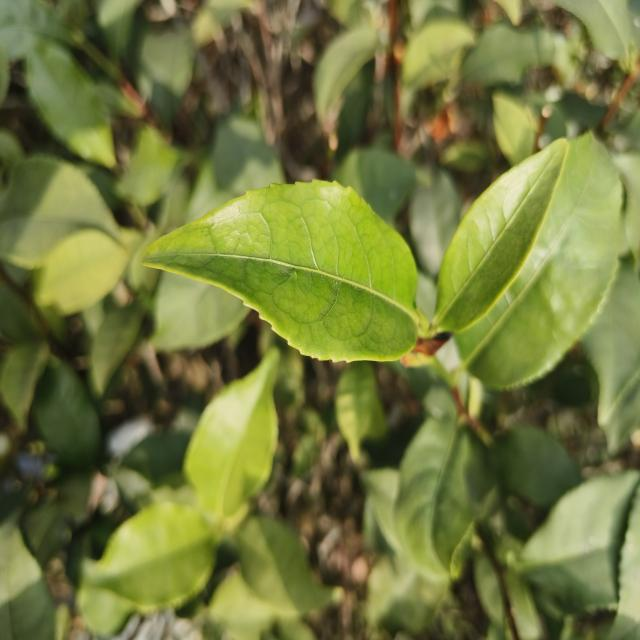Leaf: (143, 180, 418, 361), (455, 133, 622, 389), (433, 142, 567, 331), (517, 471, 640, 613), (185, 348, 279, 519), (394, 418, 492, 577), (89, 502, 216, 611), (0, 155, 119, 268), (26, 39, 116, 167), (187, 115, 285, 221), (238, 516, 340, 614), (582, 263, 640, 422), (34, 229, 129, 315), (151, 271, 249, 351), (490, 425, 581, 508), (33, 361, 100, 468), (0, 512, 55, 640), (314, 23, 381, 123), (334, 147, 416, 224), (460, 23, 554, 86), (408, 166, 462, 275), (137, 25, 194, 126), (91, 303, 144, 395), (209, 571, 278, 640), (556, 0, 632, 60), (0, 341, 49, 428), (0, 0, 71, 59), (336, 362, 374, 459), (492, 92, 536, 165), (98, 0, 142, 56)
